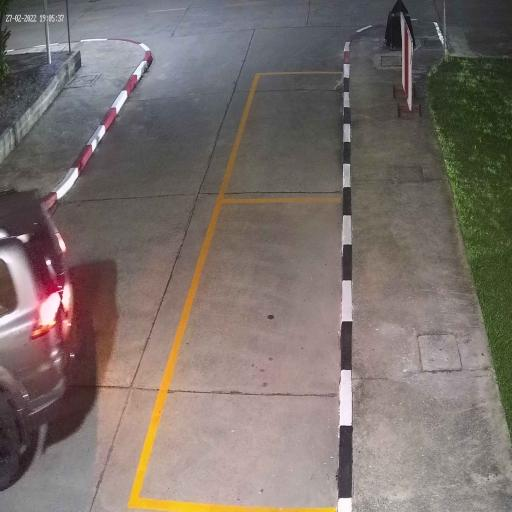car: (0, 188, 76, 493)
